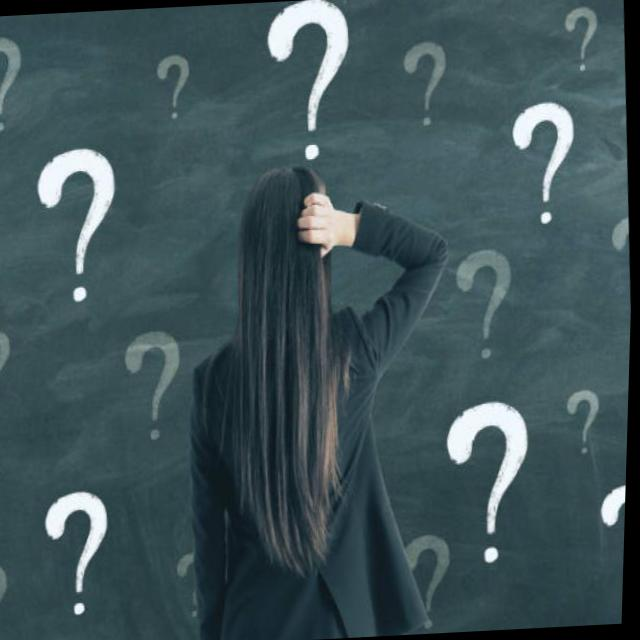no helmet: (206, 156, 374, 352)
